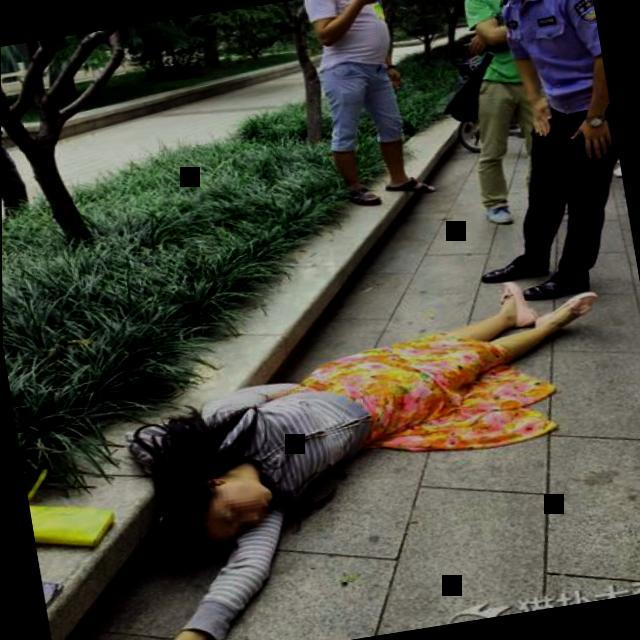Fall-Detected: (46, 277, 640, 640)
